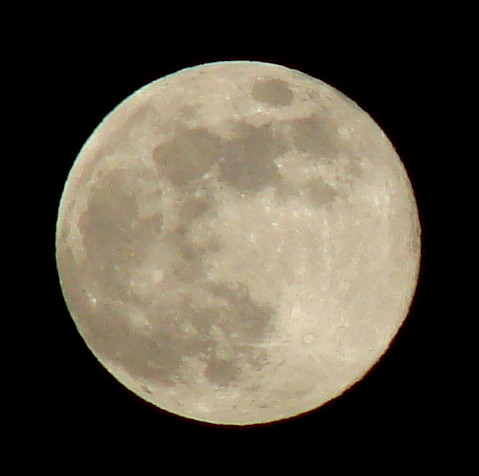crater: (265, 281, 351, 379), (200, 351, 249, 399), (329, 116, 357, 149), (360, 186, 385, 221), (121, 270, 140, 293), (198, 164, 218, 185), (232, 180, 250, 202), (89, 291, 107, 309), (277, 157, 289, 172), (220, 91, 236, 101)
